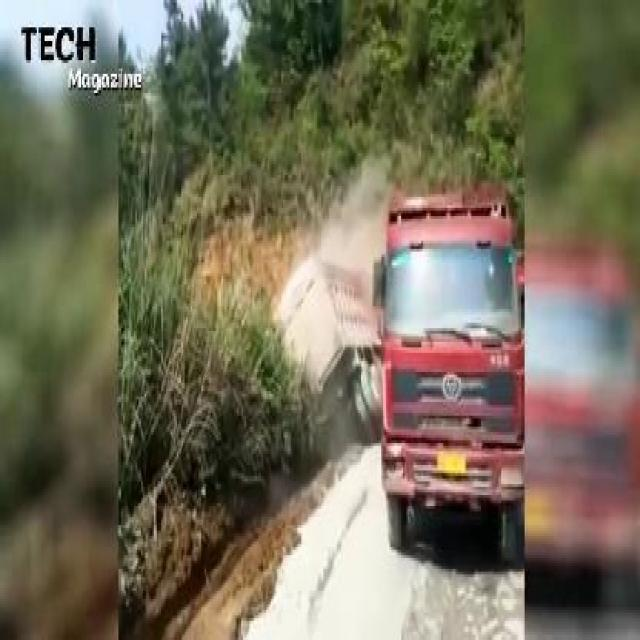accident: (238, 246, 382, 451)
